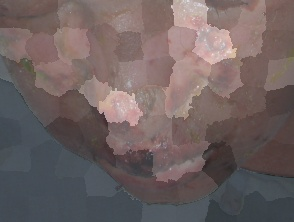SJS-TEN: (94, 128, 230, 202)
